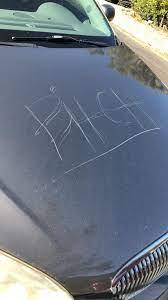bonnet-dent: (0, 45, 167, 276)
